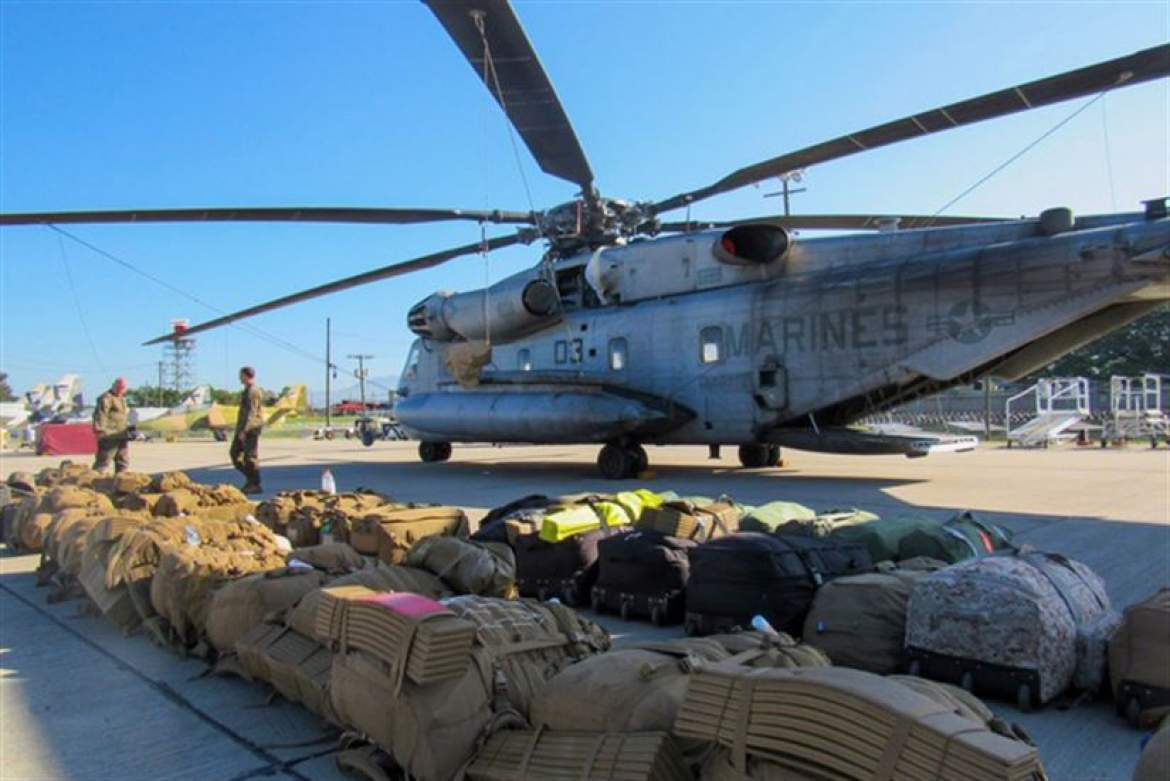MilitaryHelicopter: (298, 154, 1077, 475)
